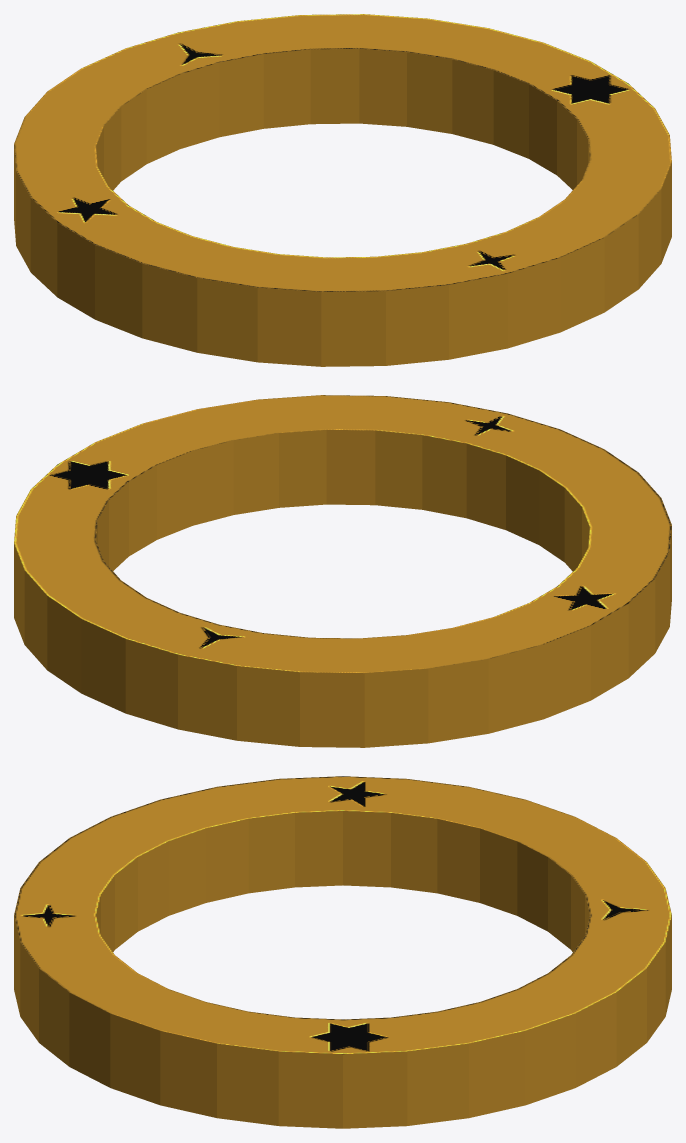
File: OutmostPiece.fbx
3 renders of one model, top to bottom at view 1: azimuth 30°, elevation 25°; view 2: azimuth 150°, elevation 25°; view 3: azimuth 270°, elevation 25°, orthographic.
Visible parts, largest first — view 1: RingOutmostPiece; view 2: RingOutmostPiece; view 3: RingOutmostPiece.
Part boxes in pixels (box(x1,y1,x2,y2)): RingOutmostPiece: box(14, 14, 671, 366); RingOutmostPiece: box(14, 395, 671, 747); RingOutmostPiece: box(14, 776, 671, 1128).
Size of the model in its own units: 200 by 25 by 200.
